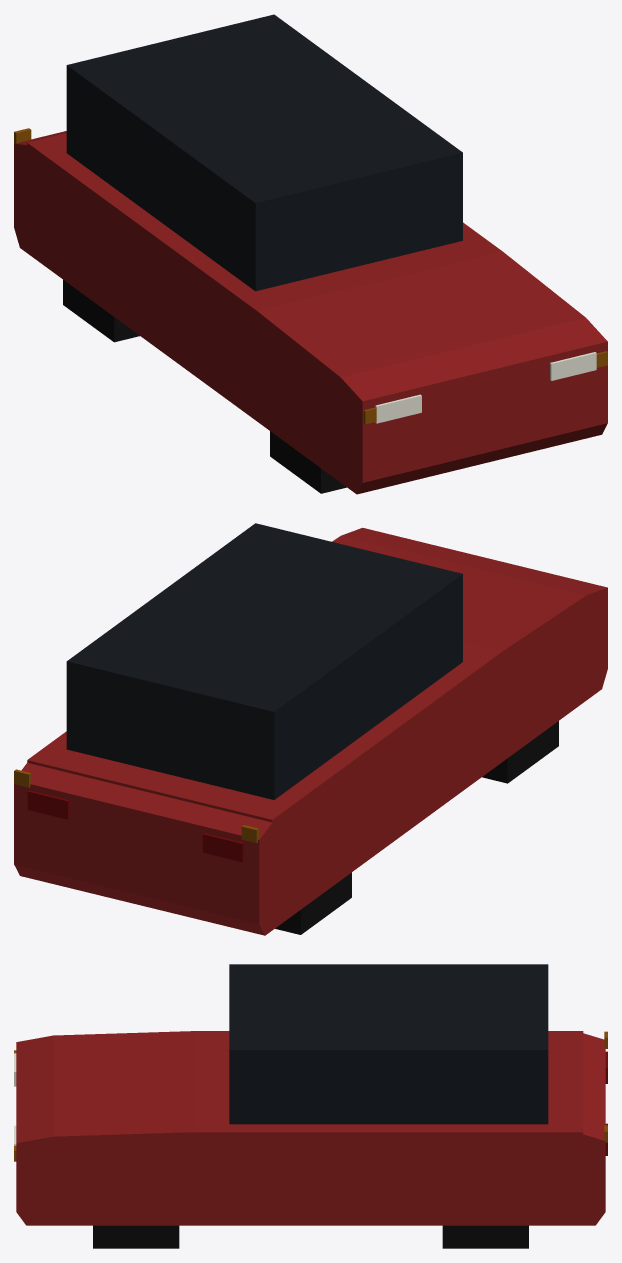
3 renders of one model, top to bottom at view 1: azimuth 30°, elevation 25°; view 2: azimuth 150°, elevation 25°; view 3: azimuth 270°, elevation 25°, orthographic. The views are drawn at different scales.
Visible parts, largest first — view 1: shell, cabin, wheels, headlight_L, headlight_R; view 2: shell, cabin, wheels, taillight_L, taillight_R; view 3: shell, cabin, wheels.
Part boxes in pixels (box(x1,y1,x2,y2)): shell: box(14, 131, 607, 494); cabin: box(66, 14, 462, 291); wheels: box(63, 279, 346, 493); headlight_L: box(550, 352, 596, 380); headlight_R: box(375, 394, 421, 423); shell: box(14, 527, 607, 935); cabin: box(66, 523, 462, 799); wheels: box(275, 721, 558, 934); taillight_L: box(27, 790, 69, 819); taillight_R: box(202, 833, 244, 862); shell: box(16, 1031, 605, 1225); cabin: box(229, 964, 548, 1124); wheels: box(93, 1225, 528, 1248).
Bounding box in the file's own units: 1.95 × 1.73 × 4.84.
